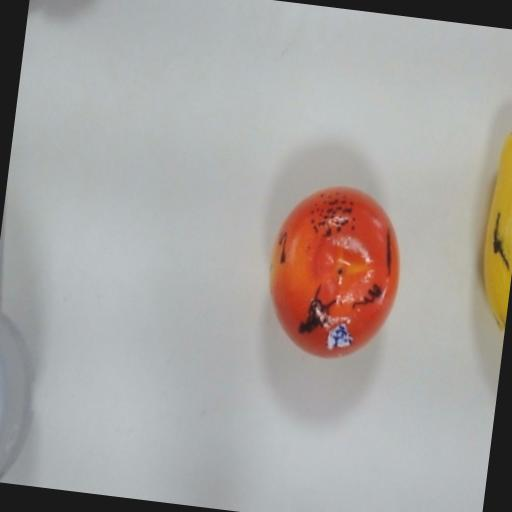Defective: (258, 172, 411, 370), (470, 114, 512, 341)
